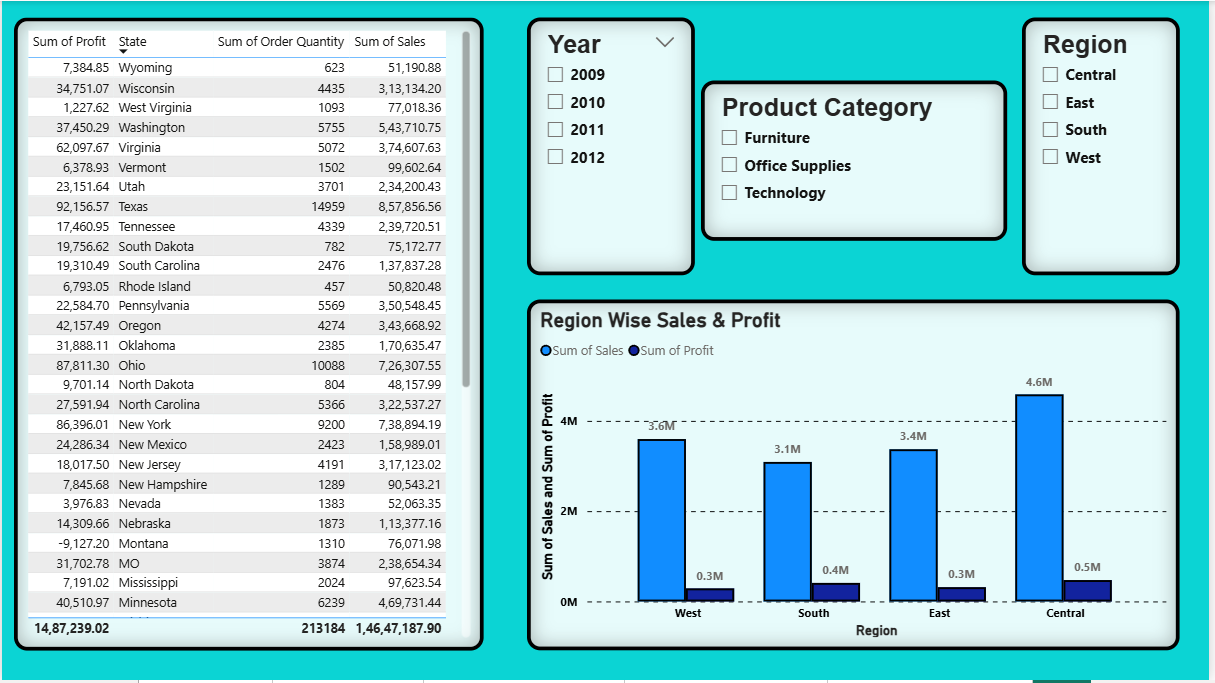

The dashboard page shown, as its layout file describes it:
{"tool":"powerbi","page":{"name":"Regional Analysis ","canvas":[1280,720],"ordinal":3},"visuals":[{"type":"clusteredColumnChart","title":"Region Wise Sales & Profit ","fields":{"Y":["Sum(Sample - Superstore Sales (Excel).Sales)","Sum(Sample - Superstore Sales (Excel).Profit)"],"Category":["Sample - Superstore Sales (Excel).Region"]},"box":[556.7,316.5,691.9,372.2],"z":0},{"type":"tableEx","title":"State Performence","fields":{"Values":["Sum(Sample - Superstore Sales (Excel).Profit)","Sample - Superstore Sales (Excel).State","Sum(Sample - Superstore Sales (Excel).Order Quantity)","Sum(Sample - Superstore Sales (Excel).Sales)"]},"box":[12.7,17.5,497.9,671.2],"z":1000},{"type":"slicer","fields":{"Values":["Sample - Superstore Sales (Excel).Order Date.Variation.Date Hierarchy.Year"]},"box":[556.7,17.5,178.1,273.6],"z":2000},{"type":"slicer","fields":{"Values":["Sample - Superstore Sales (Excel).Region"]},"box":[1081.6,17.5,167,273.6],"z":3000},{"type":"slicer","fields":{"Values":["Sample - Superstore Sales (Excel).Product Category"]},"box":[741.2,84.3,324.5,170.2],"z":4000}]}

Visuals, with their boxes in screenshot pixels (x1, y1, x2, y2), scaled from the page's 1280x720 canvas onto the 1215x683 screenshot:
"Region Wise Sales & Profit " clusteredColumnChart: bbox=[528, 300, 1185, 653]
"State Performence" tableEx: bbox=[12, 17, 485, 653]
slicer - Sample - Superstore Sales (Excel).Order Date.Variation.Date Hierarchy.Year: bbox=[528, 17, 697, 276]
slicer - Sample - Superstore Sales (Excel).Region: bbox=[1027, 17, 1185, 276]
slicer - Sample - Superstore Sales (Excel).Product Category: bbox=[704, 80, 1012, 241]
